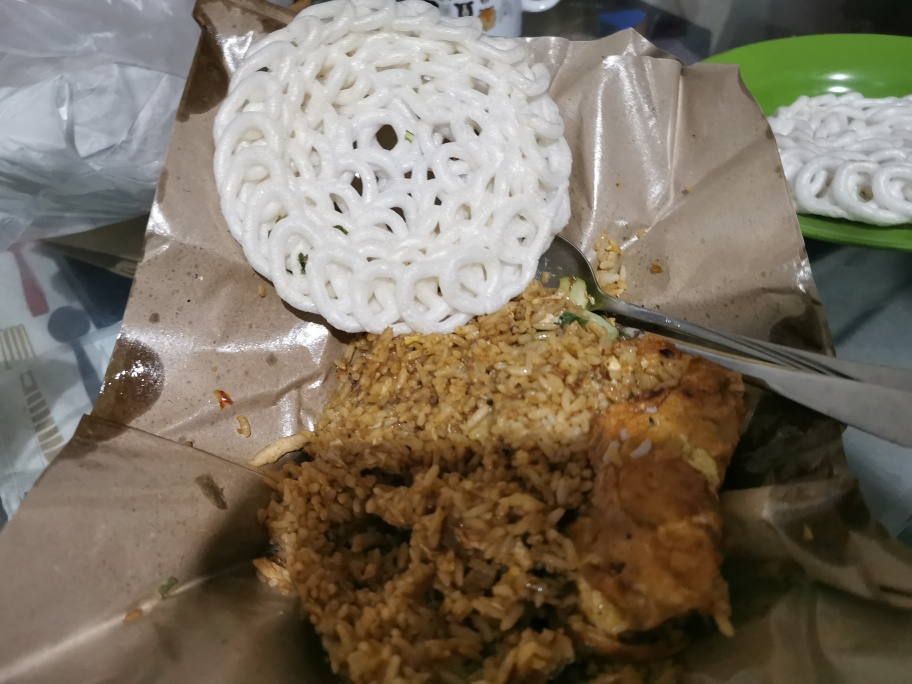kerupuk: (211, 1, 567, 329)
nasi goreng: (280, 331, 760, 684)
